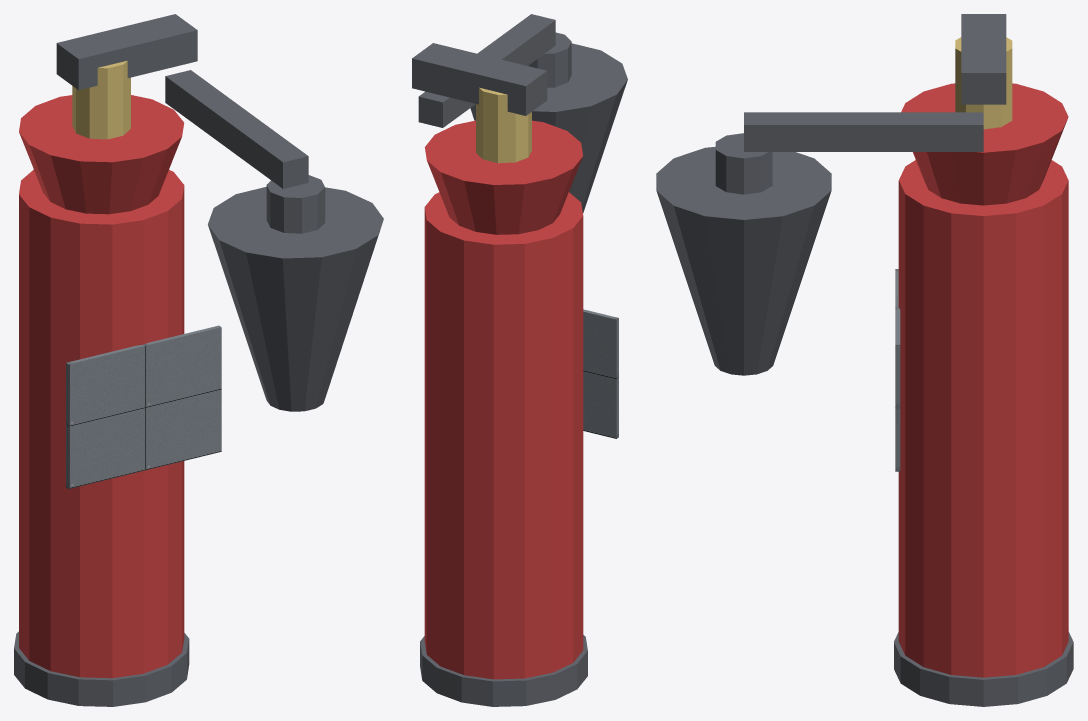
Rendered from fire-and-emergency-services-fire-extinguisher-co2-8ff6ff35__29911.glb.
3 views of the same model, side by side, from view 1: azimuth 30°, elevation 25°; view 2: azimuth 150°, elevation 25°; view 3: azimuth 270°, elevation 25° (orthographic). The views are drawn at different scales.
Visible parts, largest first — view 1: fire-extinguisher-co2; view 2: fire-extinguisher-co2; view 3: fire-extinguisher-co2.
Boxes of the visible parts, left/top/right/bottom form: fire-extinguisher-co2: left=14, top=14, right=383, bottom=706; fire-extinguisher-co2: left=412, top=14, right=627, bottom=706; fire-extinguisher-co2: left=656, top=14, right=1073, bottom=706.
Bounding box in the file's own units: 0.27 × 0.705 × 0.4178.
Materials: 4 (1 with a texture image).
